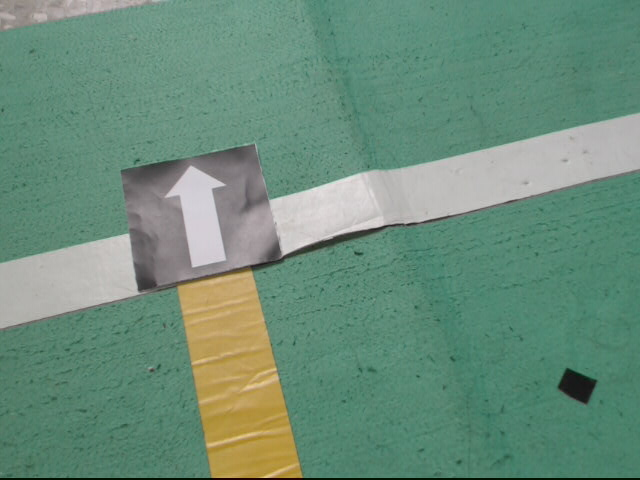straight: (119, 142, 284, 293)
